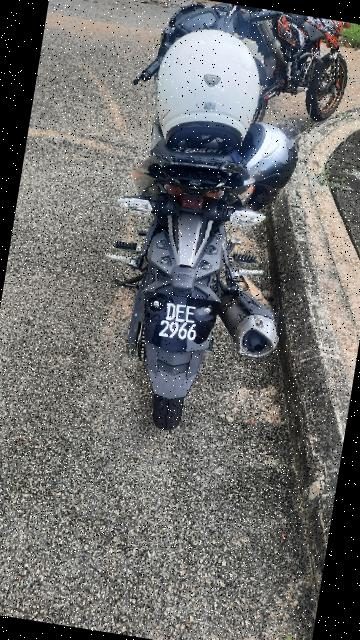License_Plate: (134, 288, 231, 365)
motorcycle: (75, 1, 342, 453)
